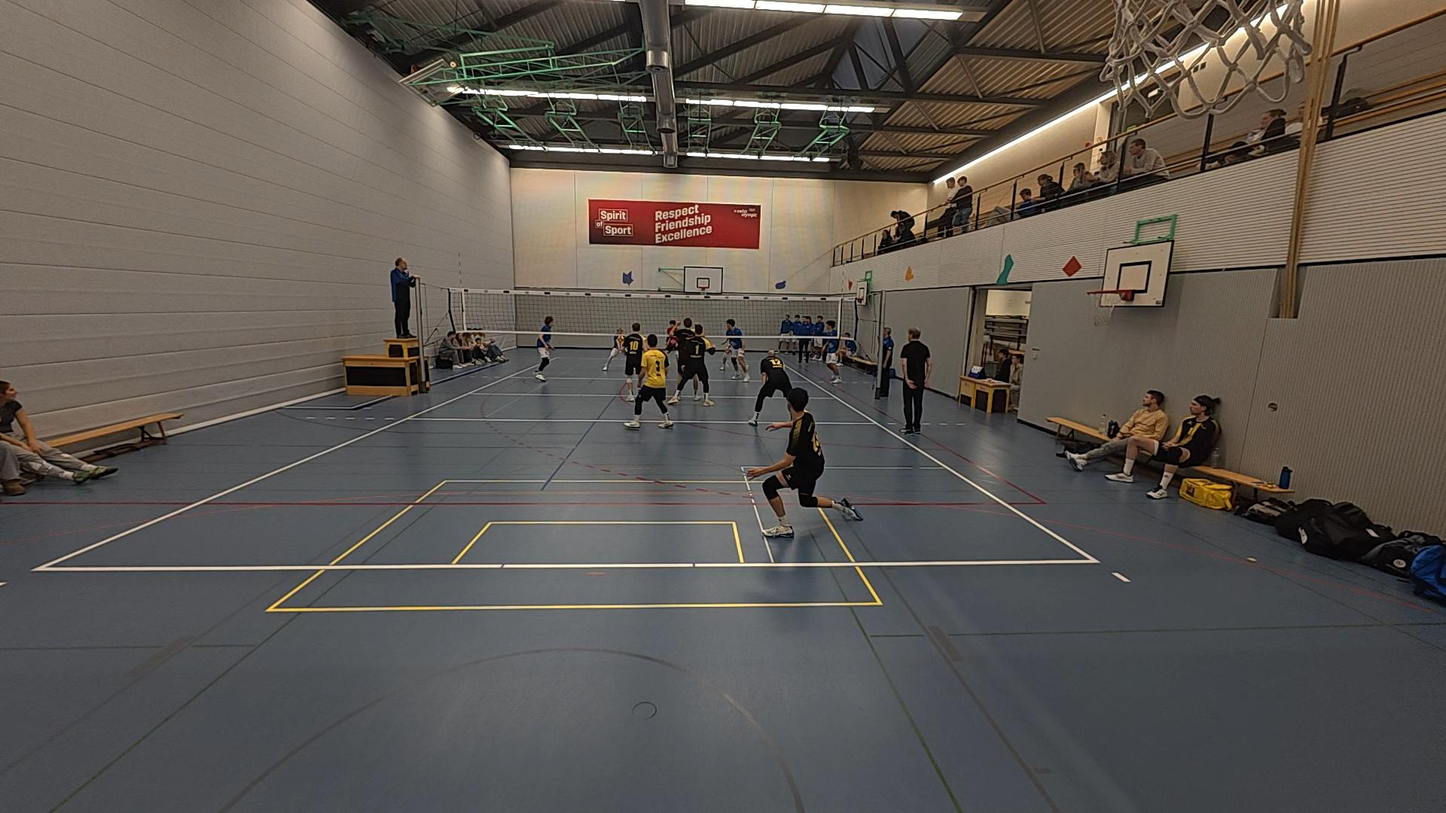ricezione: (603, 325, 626, 371)
